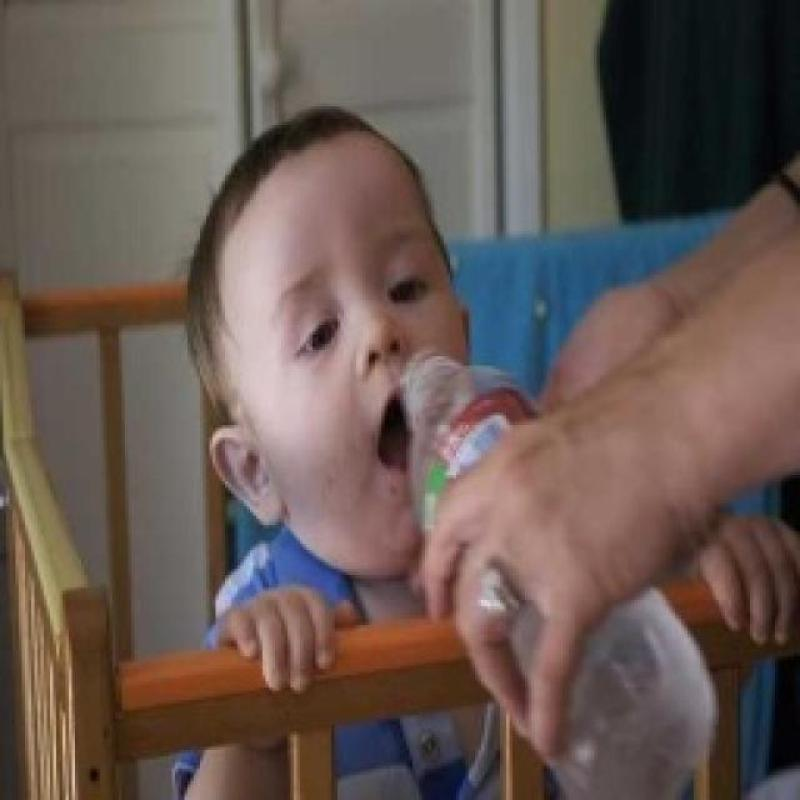botella: (400, 350, 719, 800)
